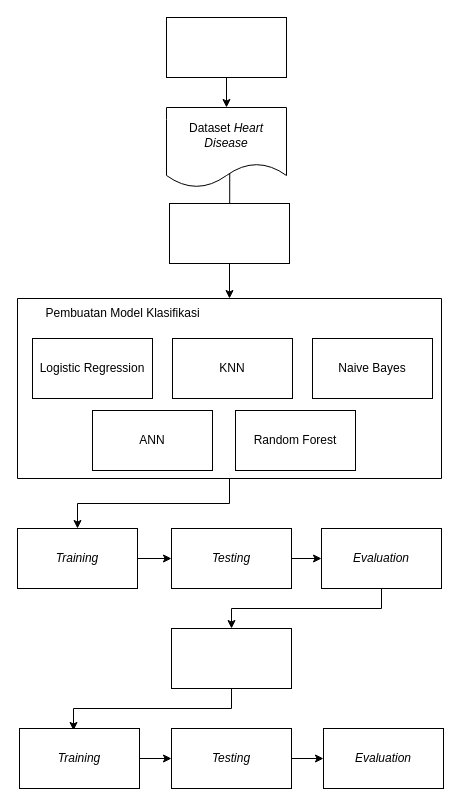
The diagram is 461 pixels wide and 806 high, and some of its shapes have lost their labels. Each missing label, with the box of its shape:
PCA: (170, 628, 292, 688)
Pengumpulan dataset: (166, 16, 286, 78)
Preprocessing: (168, 202, 290, 264)
